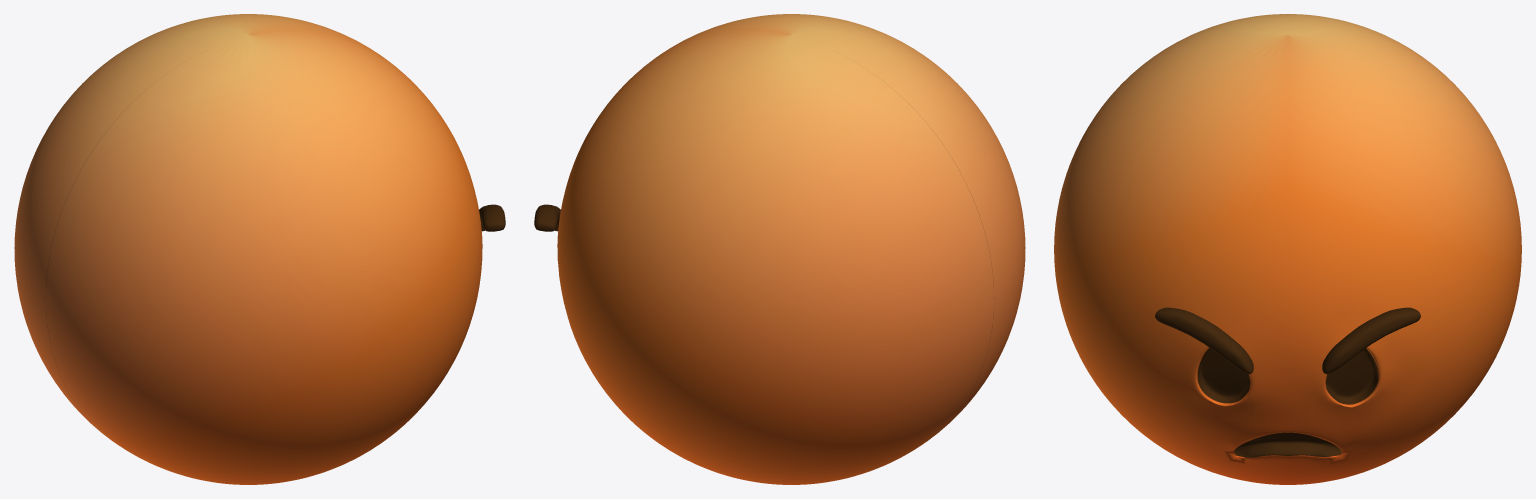
3 views of the same model, side by side, from view 1: azimuth 30°, elevation 25°; view 2: azimuth 150°, elevation 25°; view 3: azimuth 270°, elevation 25° (orthographic).
Parts seen in each view (by area): view 1: Sphere.007; view 2: Sphere.007; view 3: Sphere.007.
Boxes of the visible parts, left/top/right/bottom form: Sphere.007: left=14, top=14, right=505, bottom=484; Sphere.007: left=534, top=14, right=1025, bottom=484; Sphere.007: left=1054, top=14, right=1521, bottom=484.
Size of the model in its own units: 206 by 199 by 197.
2 materials, 1 textured.
